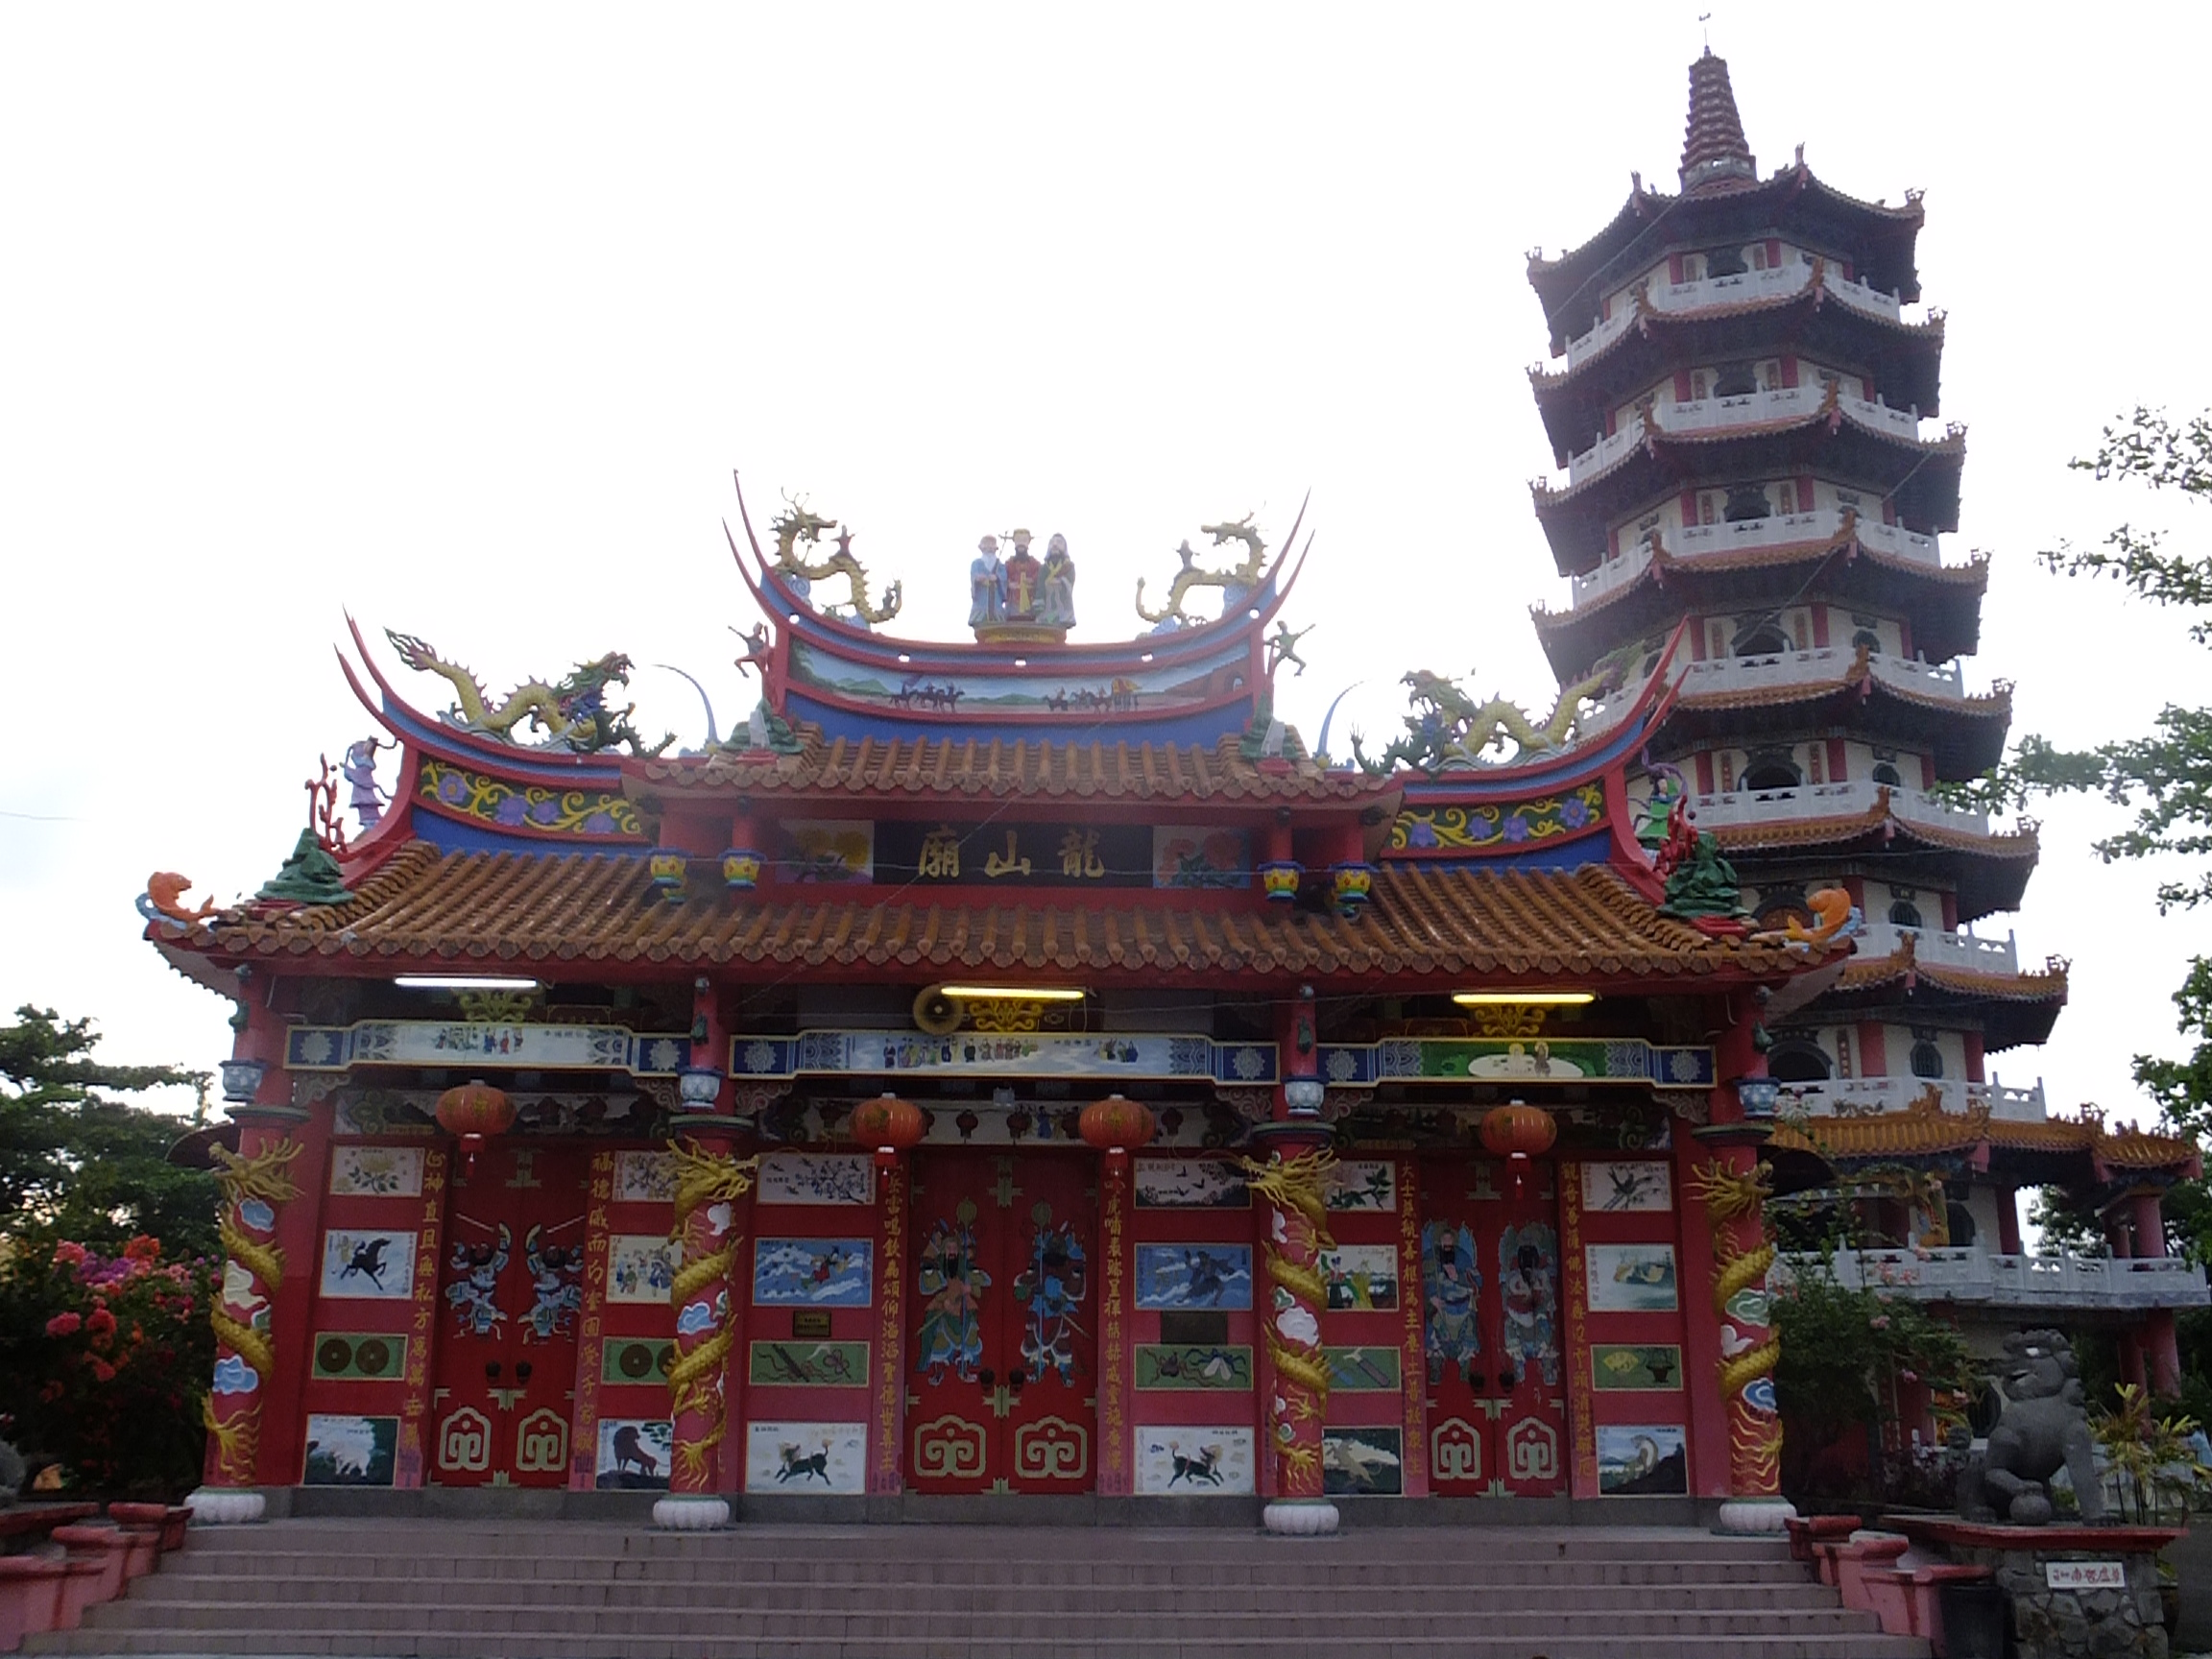Buddhist Temple: (195, 437, 1648, 1493), (1533, 58, 2052, 1244)
